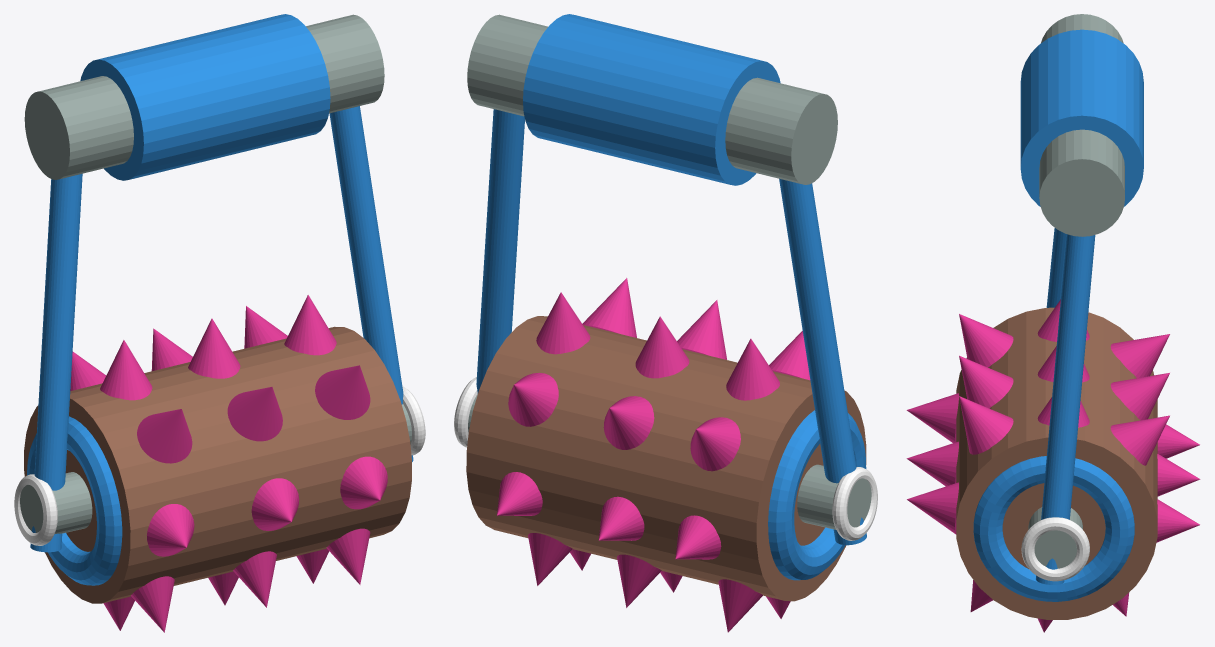
File: hammer_3.glb
3 renders of one model, left to right at view 1: azimuth 30°, elevation 25°; view 2: azimuth 150°, elevation 25°; view 3: azimuth 270°, elevation 25°, orthographic. The views are drawn at different scales.
Parts seen in each view (by area): view 1: Cylinder, Cylinder.004, Cylinder.003, Cylinder.001, Cylinder.002, Torus.001, Cylinder.006, Cone.024, Cone.022, Cone.023, Cone.014, Cone.012 (+14 smaller); view 2: Cylinder, Cylinder.004, Cylinder.003, Cylinder.001, Cylinder.002, Torus.001, Cylinder.006, Cone.019, Cone.021, Cone.020, Cone.015, Cone.016 (+12 smaller); view 3: Cylinder, Cylinder.004, Torus, Cylinder.003, Cylinder.002, Torus.002, Cone.024, Cone.022, Cone.023, Cone.021, Cone.020, Cylinder.005 (+11 smaller).
Boxes of the visible parts, left/top/right/bottom form: Cylinder: left=24, top=326, right=411, bottom=603; Cylinder.004: left=80, top=14, right=330, bottom=180; Cylinder.003: left=24, top=14, right=384, bottom=179; Cylinder.001: left=30, top=173, right=82, bottom=552; Cylinder.002: left=329, top=106, right=413, bottom=461; Torus.001: left=27, top=416, right=122, bottom=585; Cylinder.006: left=20, top=472, right=92, bottom=534; Cone.024: left=315, top=365, right=370, bottom=419; Cone.022: left=137, top=409, right=192, bottom=463; Cone.023: left=227, top=387, right=282, bottom=441; Cone.014: left=340, top=456, right=387, bottom=509; Cone.012: left=147, top=504, right=194, bottom=556; Cylinder: left=466, top=316, right=866, bottom=601; Cylinder.004: left=523, top=14, right=780, bottom=185; Cylinder.003: left=467, top=14, right=837, bottom=184; Cylinder.001: left=779, top=178, right=866, bottom=545; Cylinder.002: left=476, top=109, right=524, bottom=393; Torus.001: left=768, top=410, right=866, bottom=580; Cylinder.006: left=797, top=464, right=871, bottom=529; Cone.019: left=690, top=417, right=740, bottom=471; Cone.021: left=508, top=372, right=558, bottom=426; Cone.020: left=603, top=396, right=654, bottom=449; Cone.015: left=635, top=316, right=689, bottom=378; Cone.016: left=726, top=338, right=779, bottom=400; Cylinder: left=956, top=307, right=1157, bottom=619; Cylinder.004: left=1020, top=29, right=1143, bottom=206; Torus: left=973, top=456, right=1134, bottom=601; Cylinder.003: left=1039, top=14, right=1124, bottom=236; Cylinder.002: left=1036, top=234, right=1095, bottom=584; Torus.002: left=1021, top=517, right=1089, bottom=581; Cone.024: left=959, top=396, right=1013, bottom=454; Cone.022: left=959, top=314, right=1013, bottom=367; Cone.023: left=959, top=355, right=1013, bottom=408; Cone.021: left=1110, top=415, right=1169, bottom=465; Cone.020: left=1110, top=373, right=1169, bottom=420; Cylinder.005: left=1028, top=507, right=1082, bottom=568.
Bounding box in the file's own units: 1526 × 2088 × 1072.
